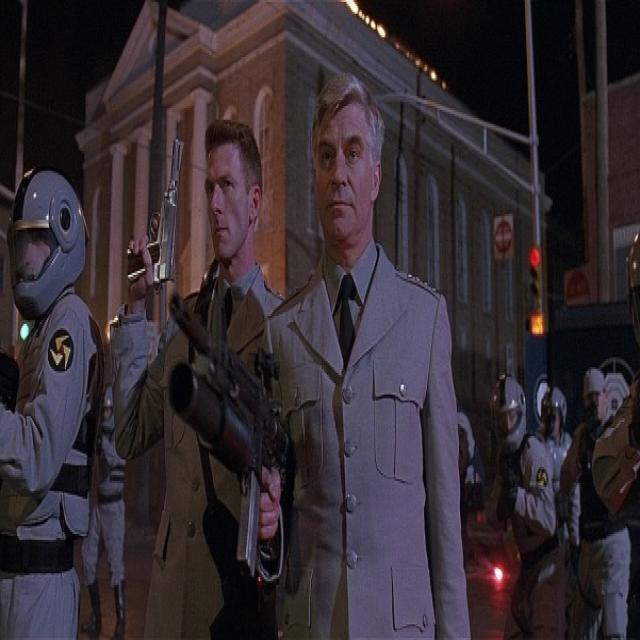rifle: (163, 286, 294, 583)
